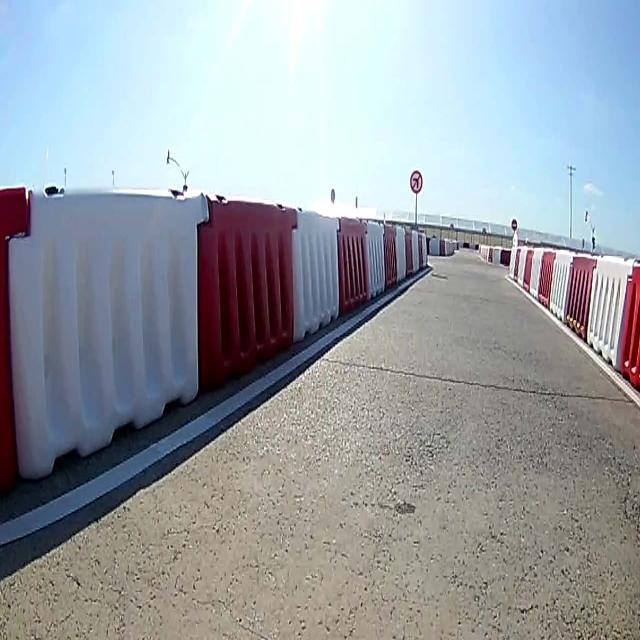soladonulmez: (410, 171, 424, 192)
